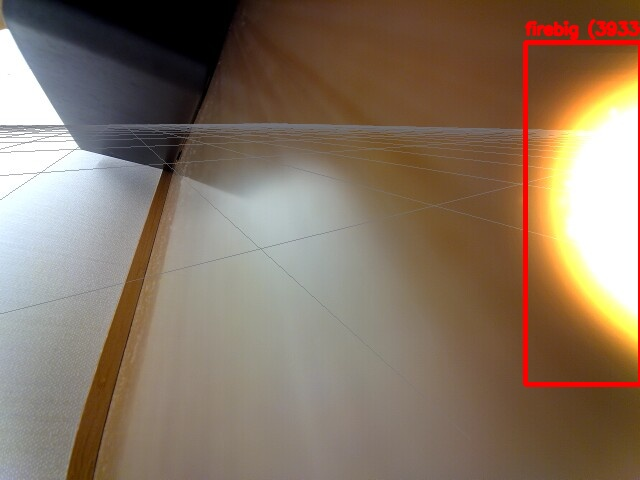firebig: (525, 42, 640, 384)
